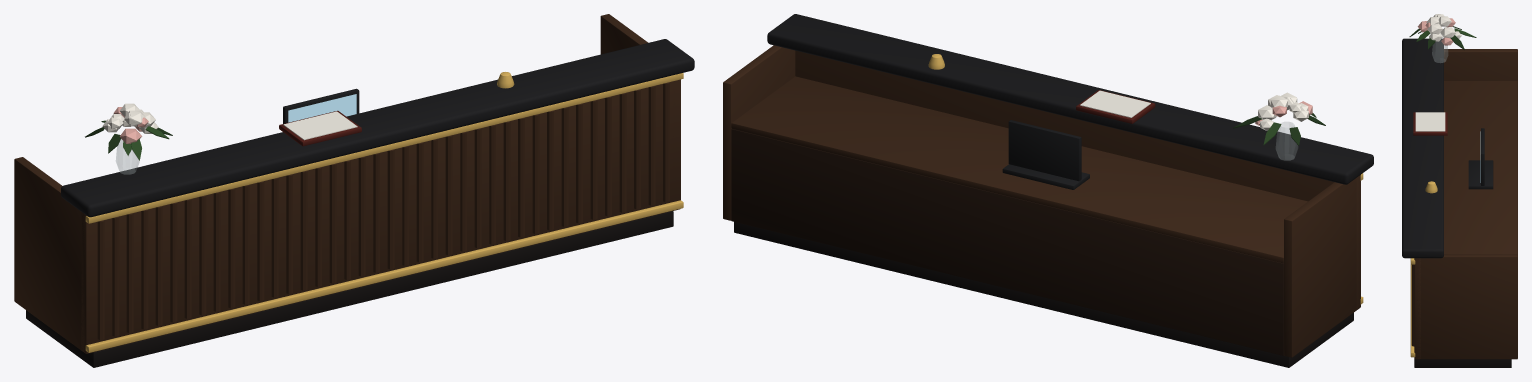
Rendered from reception_desk.glb.
3 views of the same model, side by side, from view 1: azimuth 30°, elevation 25°; view 2: azimuth 150°, elevation 25°; view 3: azimuth 270°, elevation 25° (orthographic). The views are drawn at different scales.
Parts seen in each view (by area): view 1: reception_desk; view 2: reception_desk; view 3: reception_desk.
Boxes of the visible parts, x1,y1,x2,y2 form: reception_desk: [14, 14, 694, 367]; reception_desk: [723, 14, 1373, 367]; reception_desk: [1402, 14, 1517, 367].
Bounding box in the file's own units: 4.08 × 1.51 × 0.94.
